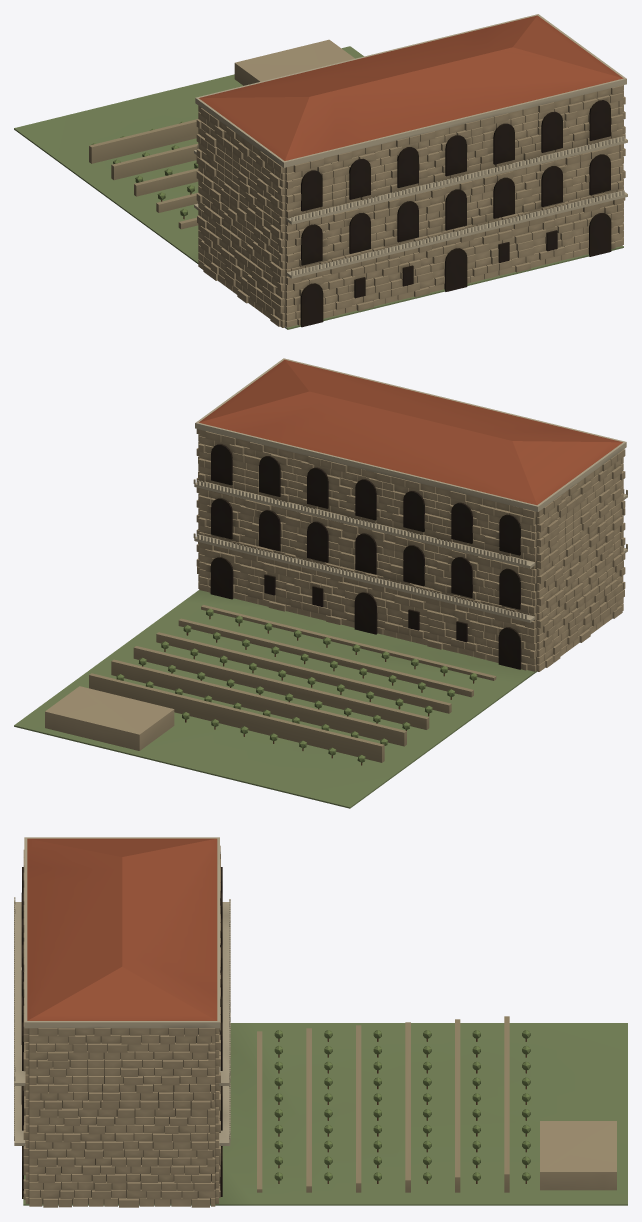
The model's file is palazzo-pitti.glb.
3 renders of one model, top to bottom at view 1: azimuth 30°, elevation 25°; view 2: azimuth 150°, elevation 25°; view 3: azimuth 270°, elevation 25°, orthographic. The views are drawn at different scales.
Parts seen in each view (by area): view 1: p1_palace, p0_ground, p2_hillside; view 2: p1_palace, p0_ground, p2_hillside; view 3: p1_palace, p0_ground, p2_hillside.
Boxes of the visible parts, left/top/right/bottom form: p1_palace: left=194, top=14, right=627, bottom=327; p0_ground: left=14, top=46, right=623, bottom=329; p2_hillside: left=89, top=39, right=354, bottom=229; p1_palace: left=193, top=358, right=627, bottom=671; p0_ground: left=14, top=590, right=536, bottom=808; p2_hillside: left=45, top=605, right=496, bottom=765; p1_palace: left=14, top=837, right=230, bottom=1207; p0_ground: left=23, top=1023, right=627, bottom=1205; p2_hillside: left=257, top=1016, right=616, bottom=1192.
Size of the model in its own units: 79.92 by 40.85 by 112.
